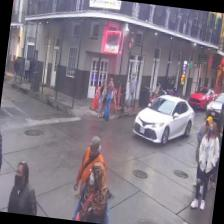person: (70, 133, 110, 215), (188, 119, 222, 209), (72, 160, 114, 223), (5, 160, 42, 215)
